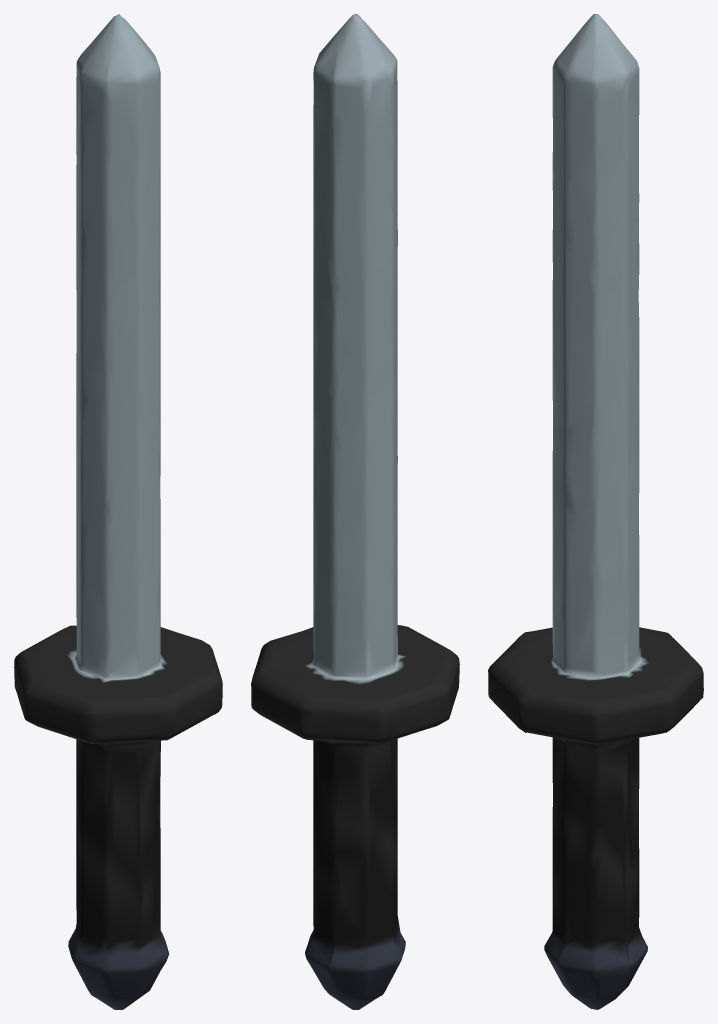
Rendered from gen3d-laser-sword-lod0.glb.
3 renders of one model, left to right at view 1: azimuth 30°, elevation 25°; view 2: azimuth 150°, elevation 25°; view 3: azimuth 270°, elevation 25°, orthographic.
Visible parts, largest first — view 1: part_0; view 2: part_0; view 3: part_0.
Part boxes in pixels (<box>): part_0: <box>14,14,222,1009</box>; part_0: <box>251,14,459,1009</box>; part_0: <box>488,14,703,1009</box>.
Size of the model in its own units: 0.1965 by 0.9991 by 0.1963.
